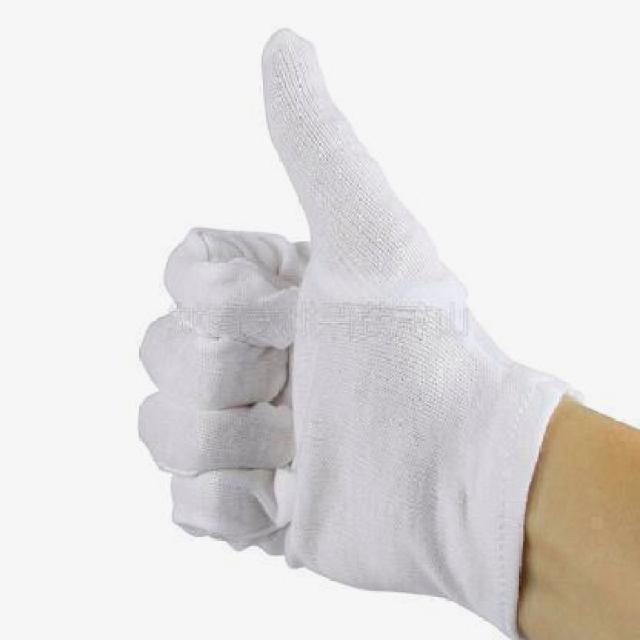hand_glove: (139, 25, 567, 602)
